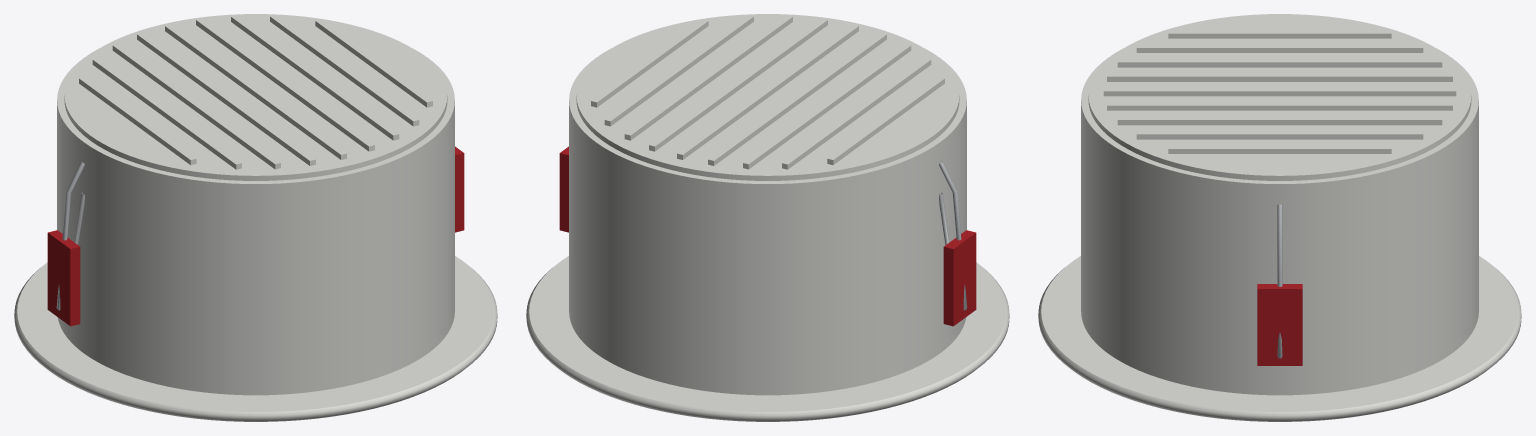
The model's file is downlight-labot-ip65-v1.glb.
3 renders of one model, left to right at view 1: azimuth 30°, elevation 25°; view 2: azimuth 150°, elevation 25°; view 3: azimuth 270°, elevation 25°, orthographic.
Parts seen in each view (by area): view 1: rear-housing, rear-cap, face-ring, rear-fins, spring-cover-left, spring-cover-right, spring-left; view 2: rear-housing, rear-cap, face-ring, rear-fins, spring-cover-left, spring-cover-right, spring-left; view 3: rear-housing, rear-cap, rear-fins, face-ring, spring-cover-right, spring-right.
Part boxes in pixels (x1=…): rear-housing: x1=57, y1=49, x2=454, y2=395; rear-cap: x1=64, y1=14, x2=447, y2=180; face-ring: x1=14, y1=256, x2=497, y2=421; rear-fins: x1=79, y1=15, x2=432, y2=169; spring-cover-left: x1=47, y1=230, x2=80, y2=326; spring-cover-right: x1=455, y1=146, x2=464, y2=232; spring-left: x1=56, y1=161, x2=84, y2=310; rear-housing: x1=569, y1=49, x2=966, y2=395; rear-cap: x1=576, y1=14, x2=959, y2=180; face-ring: x1=526, y1=256, x2=1009, y2=421; rear-fins: x1=591, y1=15, x2=944, y2=169; spring-cover-left: x1=943, y1=230, x2=976, y2=326; spring-cover-right: x1=559, y1=146, x2=568, y2=232; spring-left: x1=939, y1=161, x2=967, y2=310; rear-housing: x1=1081, y1=49, x2=1478, y2=395; rear-cap: x1=1088, y1=14, x2=1471, y2=180; rear-fins: x1=1103, y1=30, x2=1456, y2=153; face-ring: x1=1038, y1=256, x2=1521, y2=421; spring-cover-right: x1=1257, y1=284, x2=1302, y2=365; spring-right: x1=1277, y1=204, x2=1282, y2=358.
Size of the model in its own units: 0.085 by 0.045 by 0.085.
